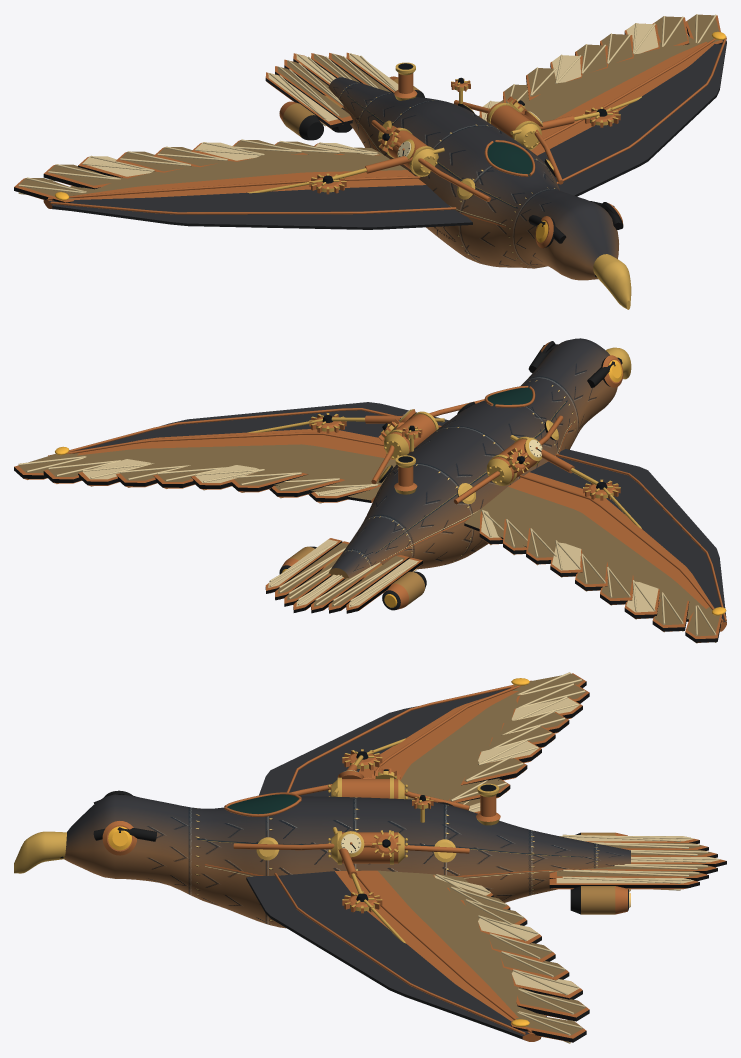
3 renders of one model, top to bottom at view 1: azimuth 30°, elevation 25°; view 2: azimuth 150°, elevation 25°; view 3: azimuth 270°, elevation 25°, orthographic. The views are drawn at different scales.
Visible parts, largest first — view 1: falcon_hull; view 2: falcon_hull; view 3: falcon_hull.
Boxes of the visible parts, <box> form: falcon_hull: <box>14,14,726,309</box>; falcon_hull: <box>14,338,726,643</box>; falcon_hull: <box>14,672,726,1043</box>.
Size of the model in its own units: 68 by 12.09 by 56.07.
1 material, 1 textured.
